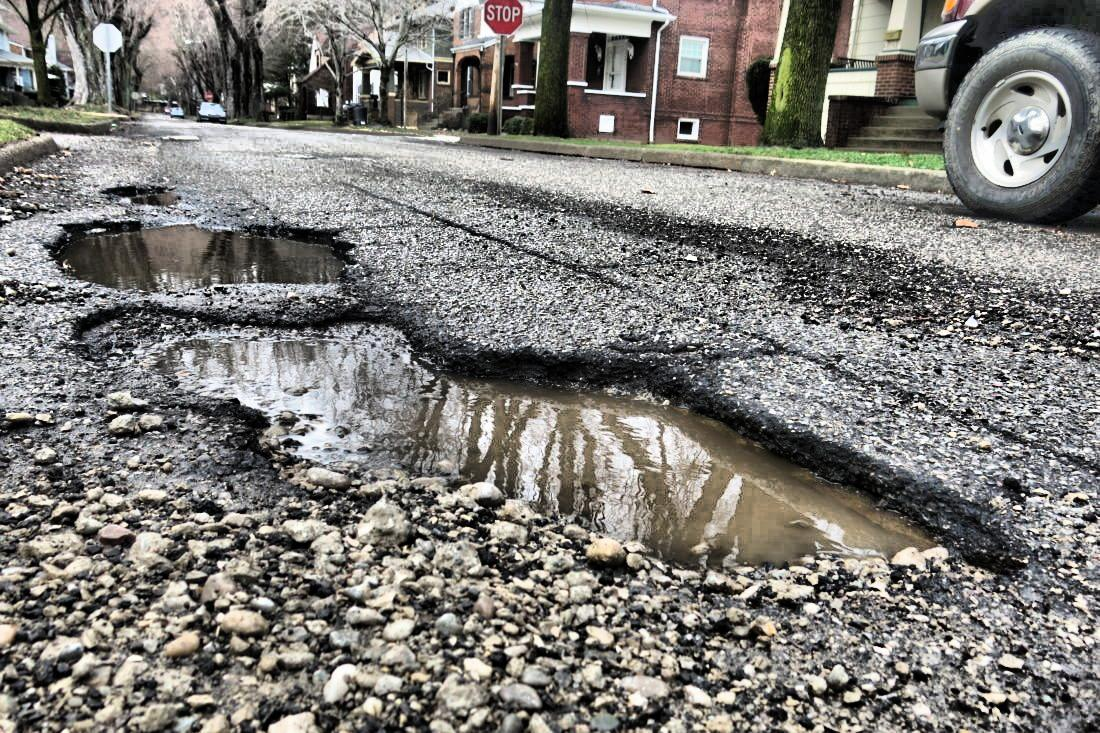pothole: (55, 297, 1001, 599), (41, 215, 365, 296)
